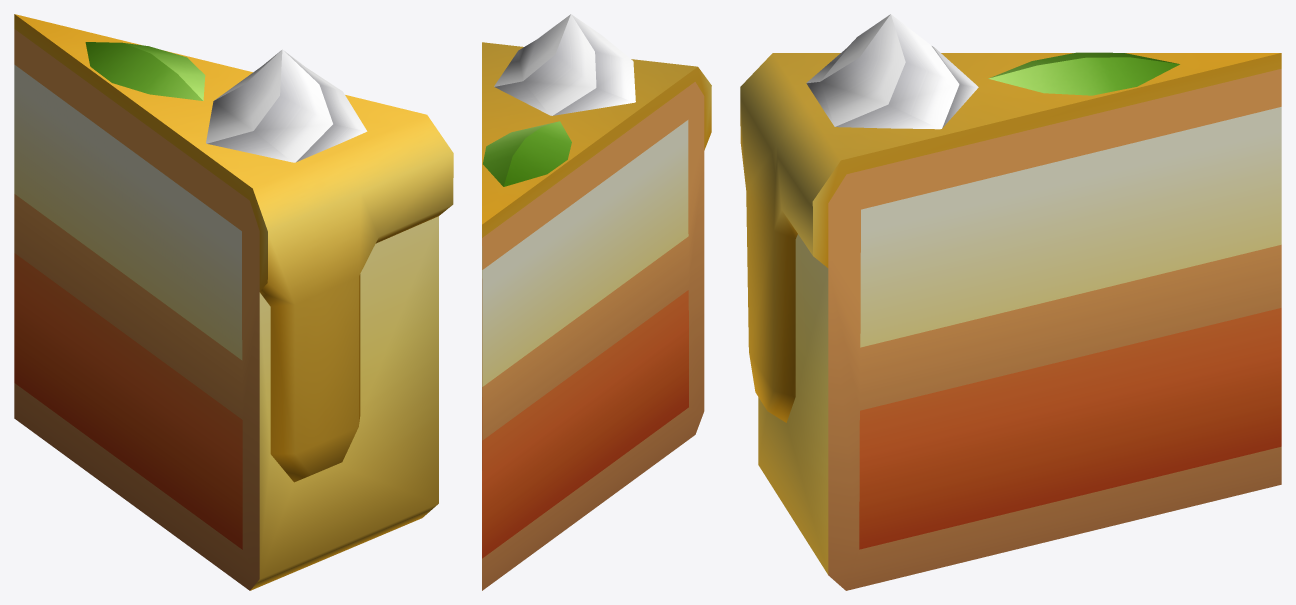
The model's file is m_LemonCake01_Slice02.fbx.
3 renders of one model, left to right at view 1: azimuth 30°, elevation 25°; view 2: azimuth 150°, elevation 25°; view 3: azimuth 270°, elevation 25°, orthographic. The views are drawn at different scales.
Parts seen in each view (by area): view 1: m_LemonCake01_Slice02; view 2: m_LemonCake01_Slice02; view 3: m_LemonCake01_Slice02.
Part boxes in pixels (bbox=[...]): m_LemonCake01_Slice02: bbox=[14, 14, 453, 590]; m_LemonCake01_Slice02: bbox=[482, 14, 711, 590]; m_LemonCake01_Slice02: bbox=[740, 14, 1281, 590].
Bounding box in the file's own units: 6.52 × 13.68 × 13.04.
